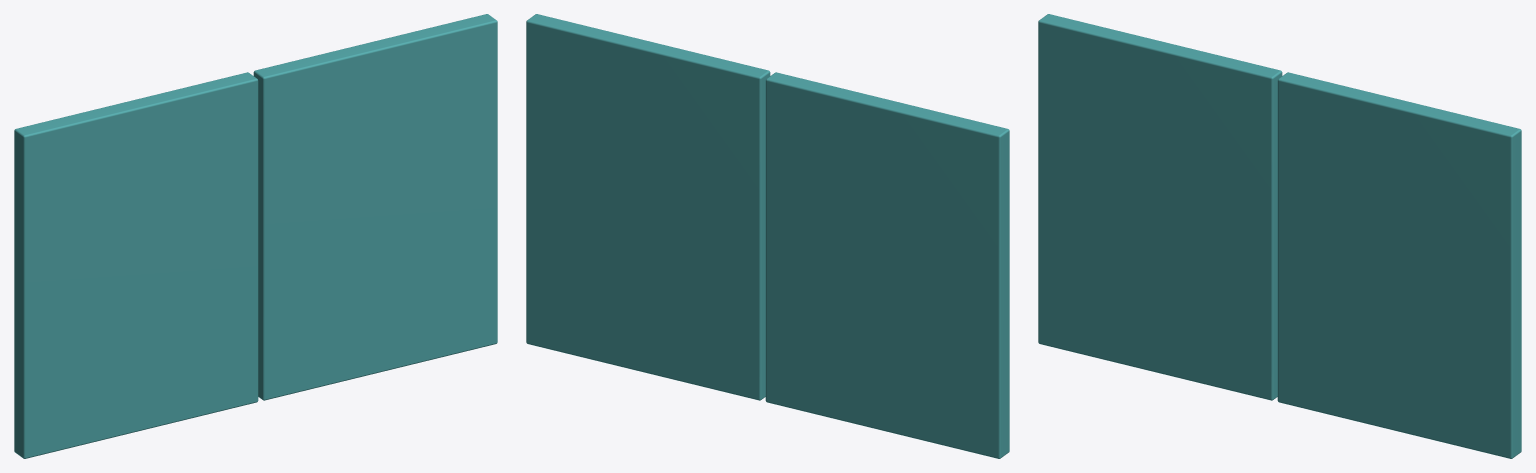
File: doors.glb
The picture shows the model from 3 angles, left to right: view 1: azimuth 30°, elevation 25°; view 2: azimuth 150°, elevation 25°; view 3: azimuth 330°, elevation 25°; orthographic projection.
Parts seen in each view (by area): view 1: Left door, Right door; view 2: Left door, Right door; view 3: Right door, Left door.
Boxes of the visible parts, x1,y1,x2,y2 form: Left door: [14, 72, 258, 458]; Right door: [253, 14, 497, 400]; Left door: [765, 72, 1009, 458]; Right door: [526, 14, 770, 400]; Right door: [1277, 72, 1521, 458]; Left door: [1038, 14, 1282, 400].
Size of the model in its own units: 1.09 by 0.708 by 0.041.
